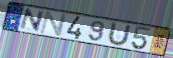4: (66, 15, 83, 41)
5: (130, 25, 153, 51)
9: (86, 20, 108, 42)
N: (39, 10, 69, 37), (18, 8, 46, 33)
U: (106, 21, 133, 48)
